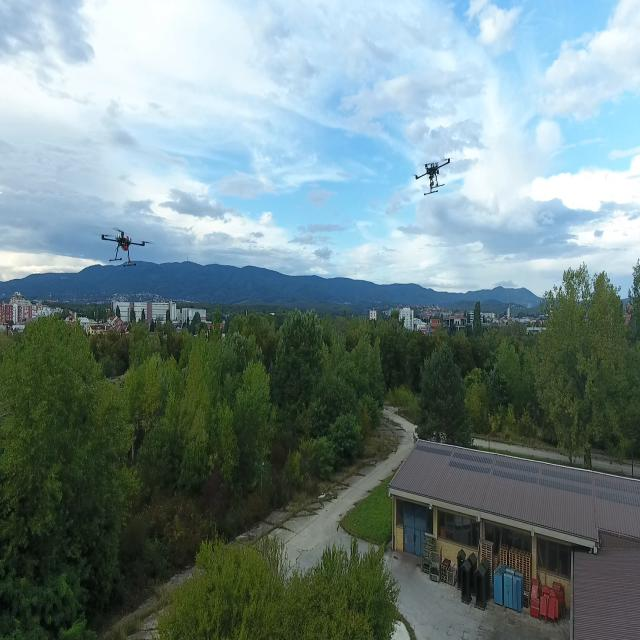UAV: (91, 224, 156, 268), (409, 149, 457, 200)
